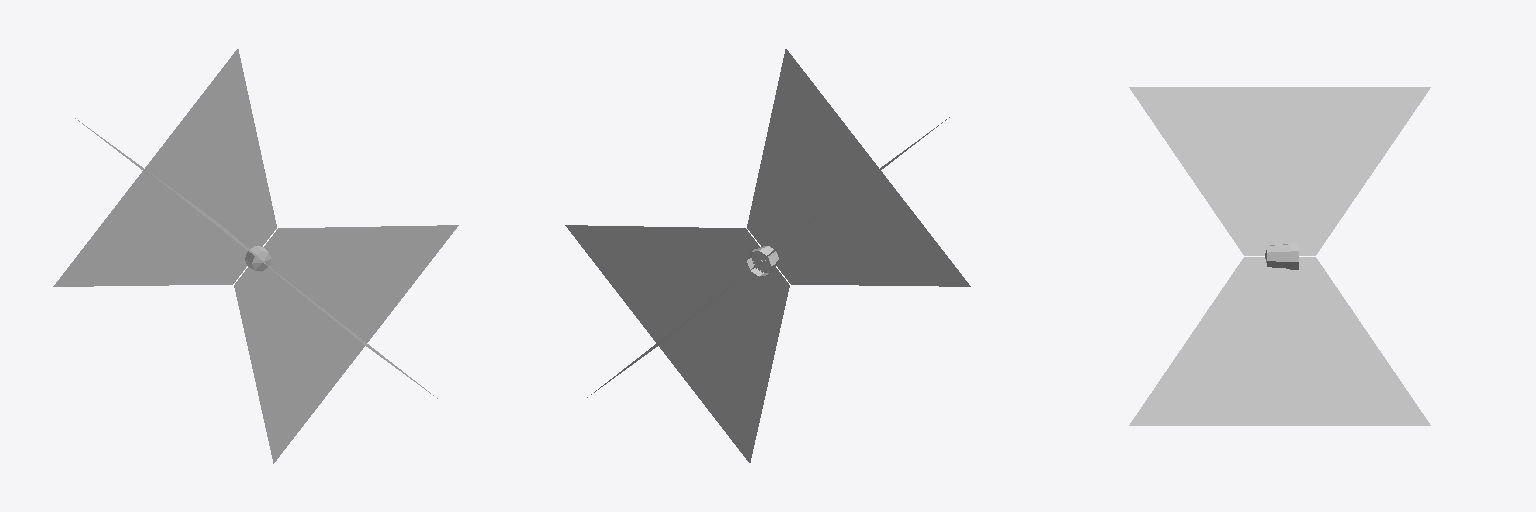
The model's file is stg400_MotRotlightA_n2_14.obj.
3 renders of one model, left to right at view 1: azimuth 30°, elevation 25°; view 2: azimuth 150°, elevation 25°; view 3: azimuth 270°, elevation 25°, orthographic.
Visible parts, largest first — view 1: polygon4; view 2: polygon4, polygon0; view 3: polygon4, polygon1.
Part boxes in pixels (x1,y1,x2,y2): polygon4: (53,49,458,463); polygon4: (565,49,970,462); polygon0: (747,247,775,276); polygon4: (1129,87,1430,425); polygon1: (1265,244,1289,268).
Bounding box in the file's own units: 141 × 141 × 91.26.